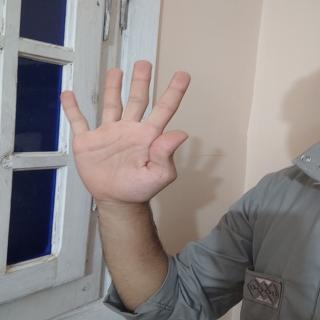SHEEN: (53, 52, 193, 221)
